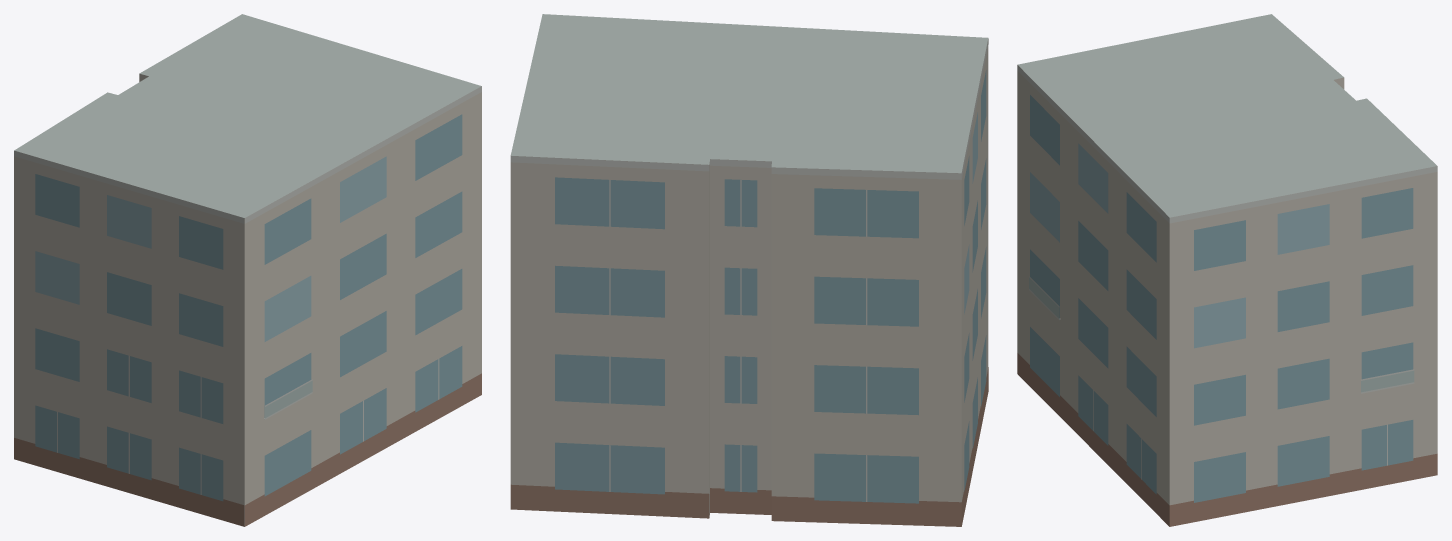
The model's file is survey-upis-32745566.glb.
The picture shows the model from 3 angles, left to right: view 1: azimuth 30°, elevation 25°; view 2: azimuth 150°, elevation 25°; view 3: azimuth 270°, elevation 25°; orthographic projection. The views are drawn at different scales.
Visible parts, largest first — view 1: survey-upis-32745566.tmp; view 2: survey-upis-32745566.tmp; view 3: survey-upis-32745566.tmp.
Boxes of the visible parts, left/top/right/bottom form: survey-upis-32745566.tmp: left=14, top=14, right=481, bottom=526; survey-upis-32745566.tmp: left=510, top=14, right=988, bottom=526; survey-upis-32745566.tmp: left=1017, top=14, right=1437, bottom=526.
Size of the model in its own units: 18.38 by 13 by 16.02.
